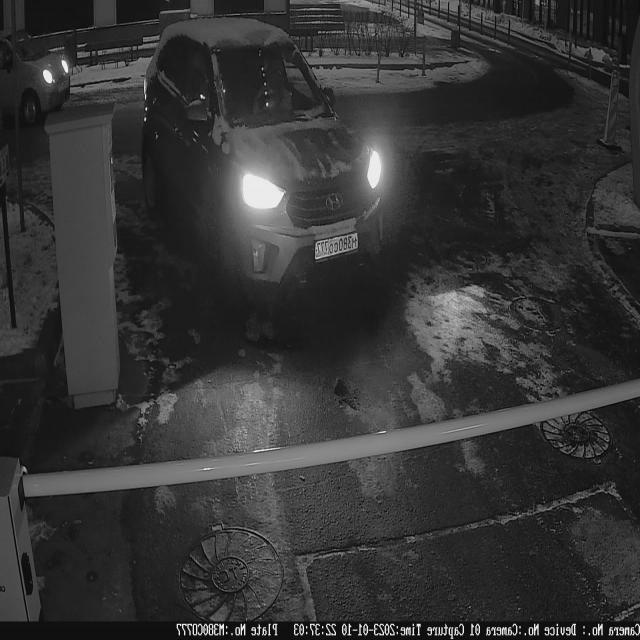car-plate-numbers: (315, 229, 362, 265)
